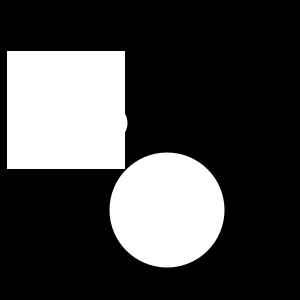circle: (7, 51, 125, 169)
rectangle: (110, 152, 224, 268), (91, 104, 128, 142)
